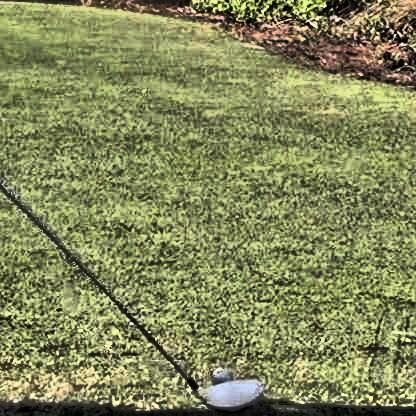golfball: (206, 362, 231, 384)
